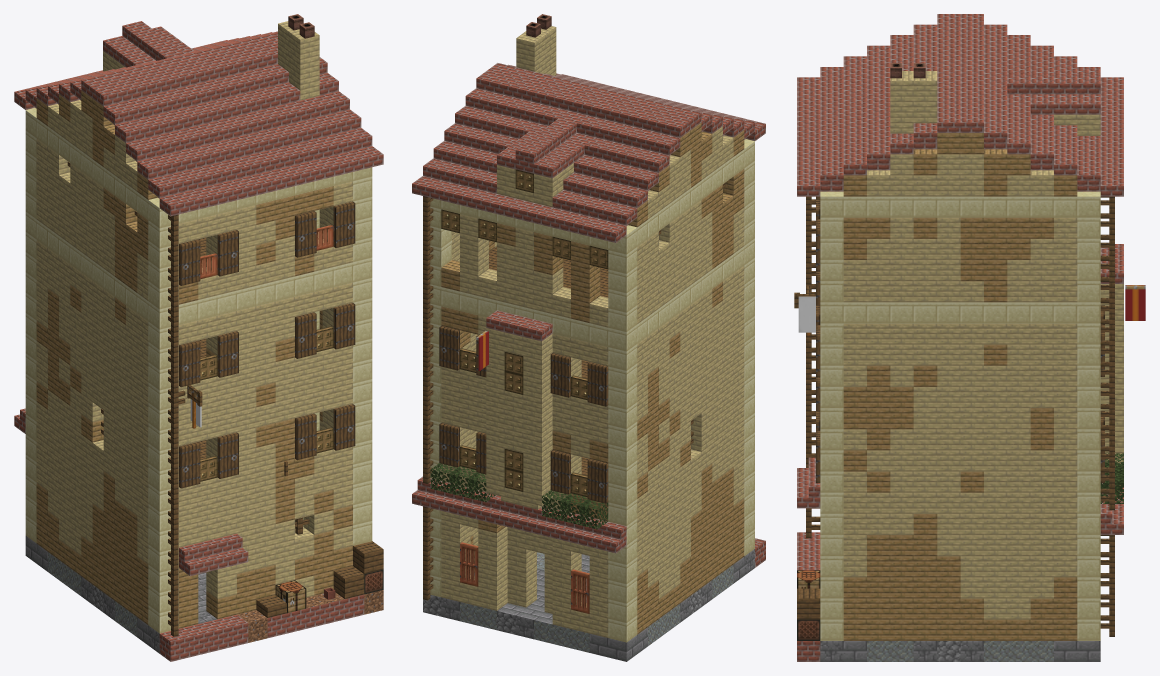
Rendered from nha-06.fbx.
3 views of the same model, side by side, from view 1: azimuth 30°, elevation 25°; view 2: azimuth 150°, elevation 25°; view 3: azimuth 270°, elevation 25° (orthographic). The views are drawn at different scales.
Visible parts, largest first — view 1: nha-06; view 2: nha-06; view 3: nha-06.
Part boxes in pixels (box(x1,y1,x2,y2)): nha-06: box(14, 14, 383, 661); nha-06: box(412, 14, 765, 661); nha-06: box(794, 14, 1145, 661).
Size of the model in its own units: 1100 by 2750 by 1506.
Materials: 1 (1 with a texture image).
